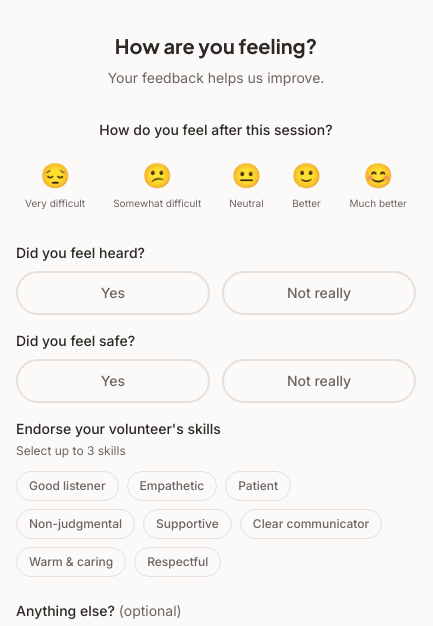
Scenario: SessionFeedback › enables submit after selecting a rating
The width and height of the screenshot is (433, 626).
Click the text "😊" at (378, 176), box [363, 160, 393, 192]
(page scrolled)
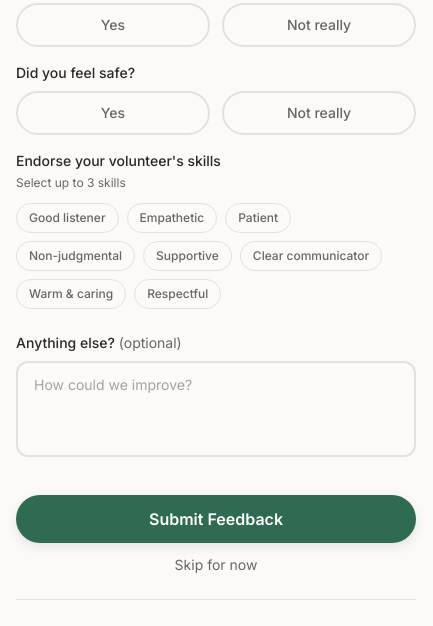
Now the button "Submit Feedback" is enabled, box [16, 495, 416, 543]
